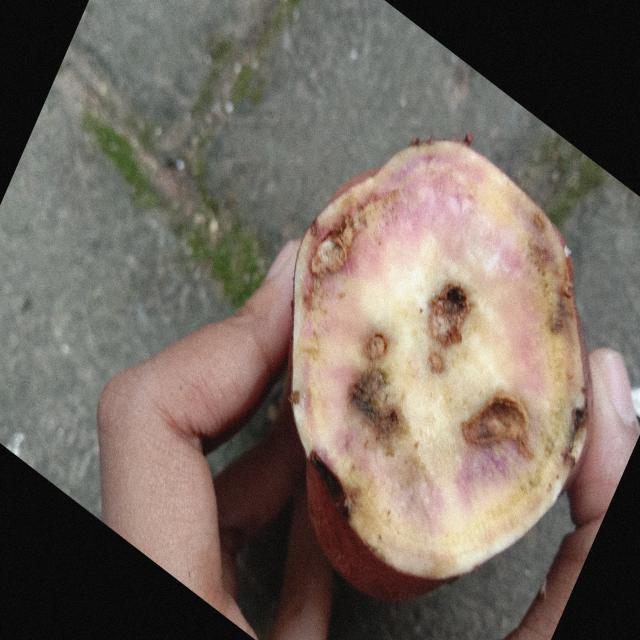Sick Sweet Potato_Tuber Rot: (290, 137, 590, 600)
